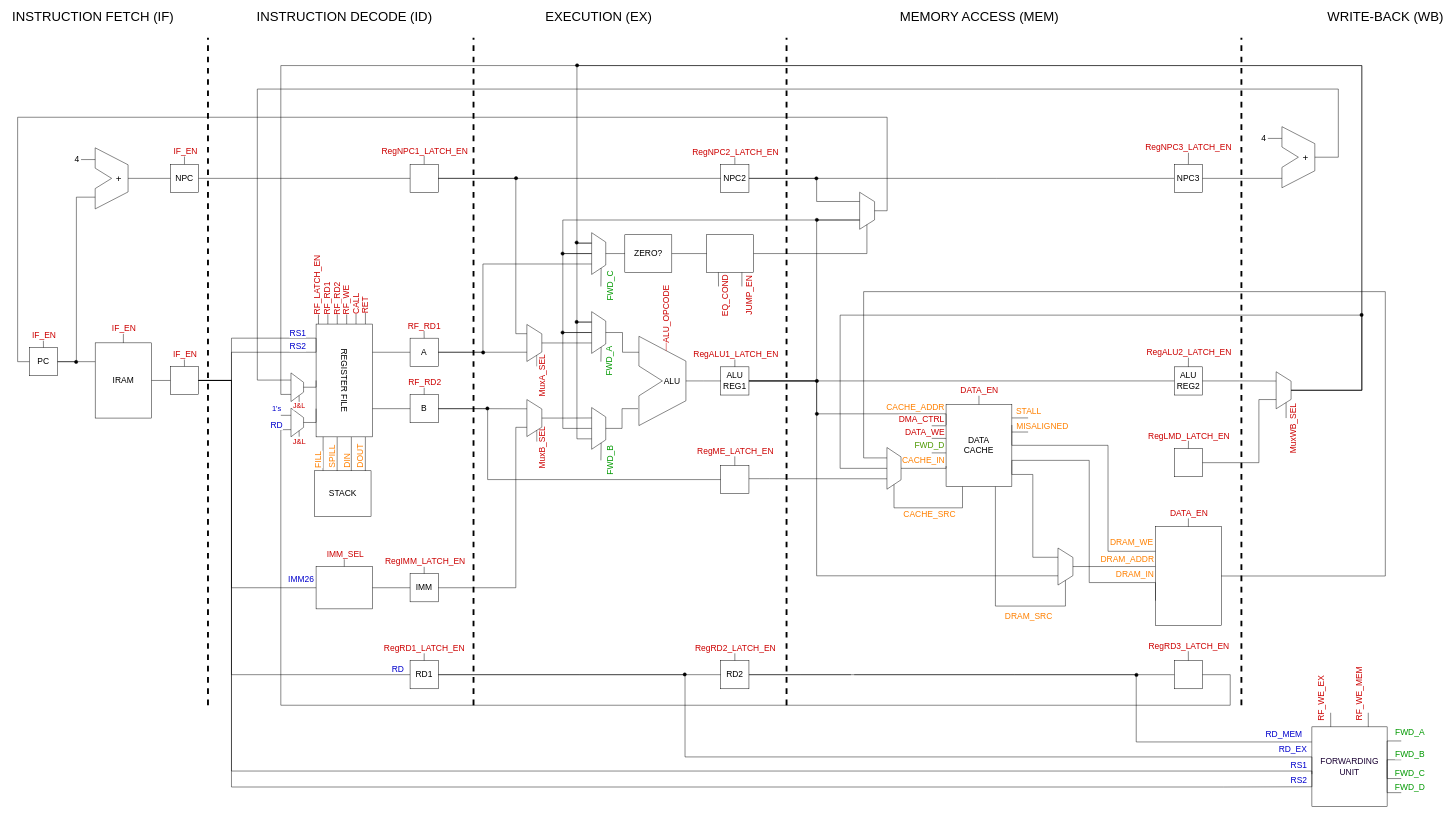
Image size: 1454x815. Some labels were removed from this diagram. The centre of each missing label's shape, as x and y in pixels:
"BRANCH UNIT" goes at point 730,253.
"DATA SDRAM" goes at point 1188,575.
"IR" goes at point 184,380.
"LMD" goes at point 1188,462.
"ME" goes at point 734,479.
"NPC1" goes at point 424,178.
"RD3" goes at point 1188,674.
"SIGN EXTEND" goes at point 344,587.
